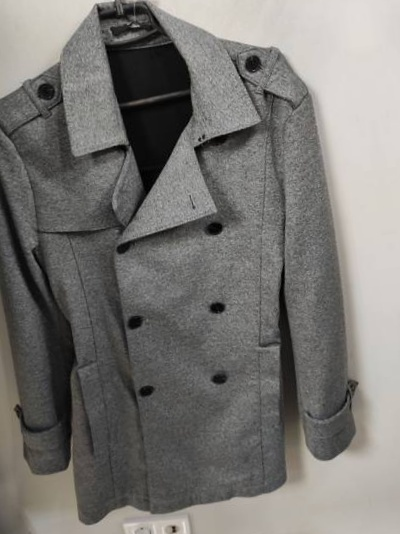Blazer: (0, 0, 391, 528), (385, 0, 400, 467), (25, 522, 400, 534)
